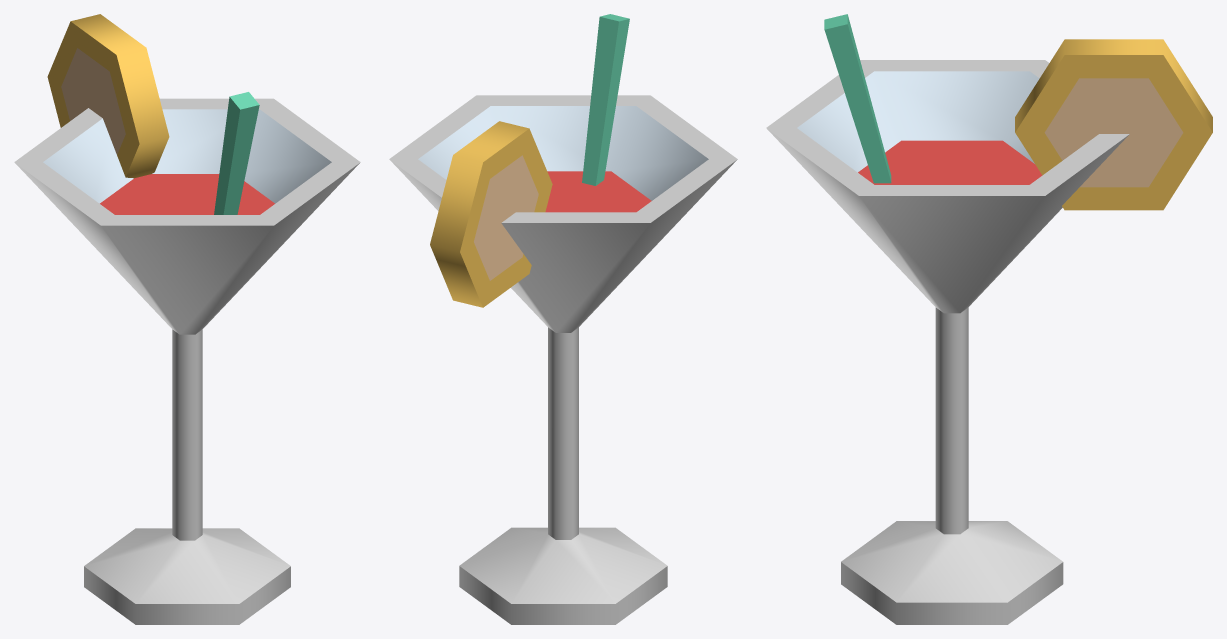
File: Cocktail.glb
3 renders of one model, left to right at view 1: azimuth 30°, elevation 25°; view 2: azimuth 150°, elevation 25°; view 3: azimuth 270°, elevation 25°, orthographic. The views are drawn at different scales.
Visible parts, largest first — view 1: Cocktail; view 2: Cocktail; view 3: Cocktail.
Boxes of the visible parts, x1,y1,x2,y2 form: Cocktail: (14,14,360,624); Cocktail: (389,14,737,624); Cocktail: (766,14,1212,624).
Size of the model in its own units: 0.1147 by 0.2226 by 0.1591.
